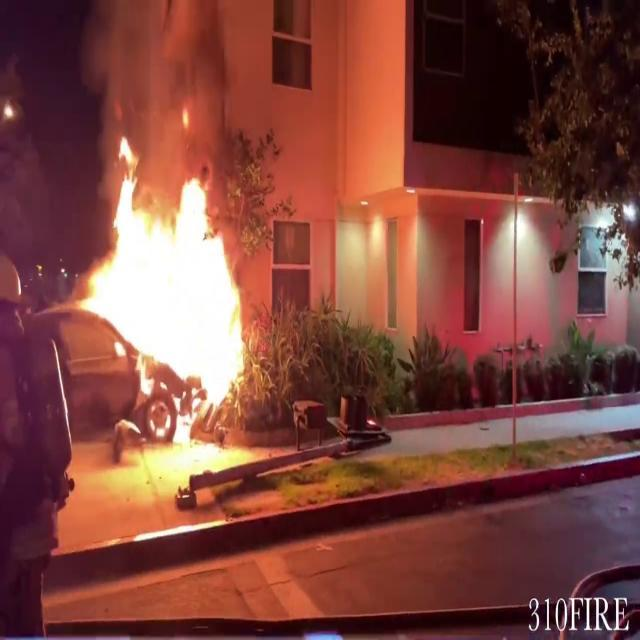Fire: (71, 130, 259, 450)
Smoke: (75, 0, 266, 165)
